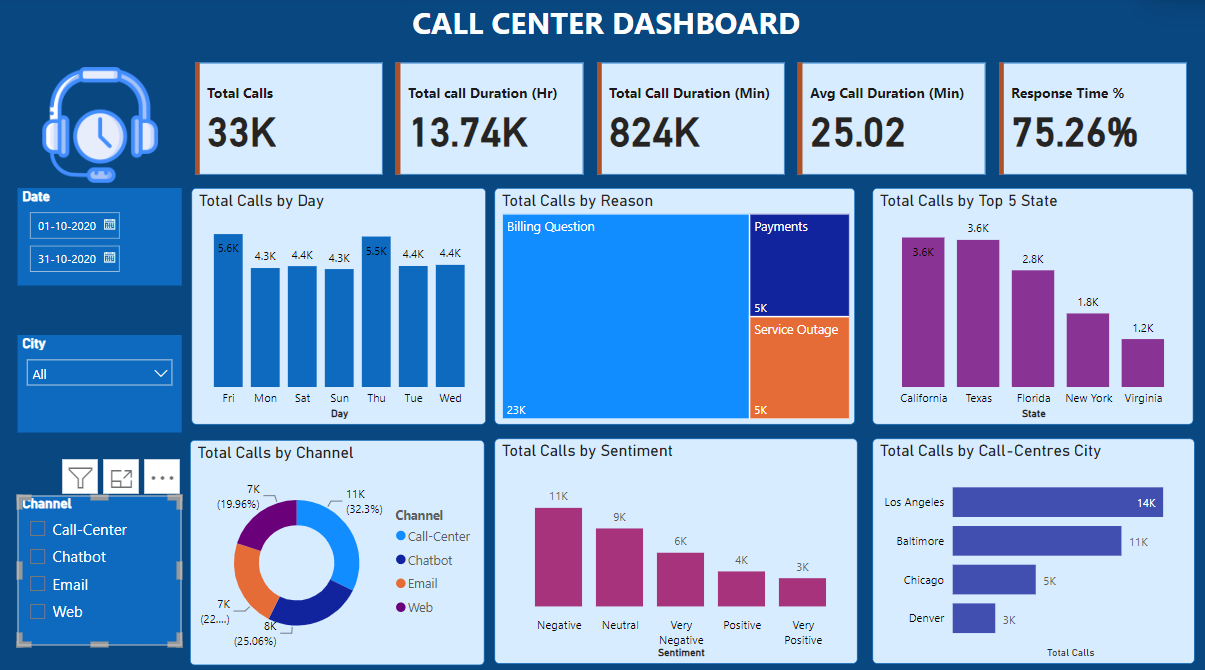

Layout of this report page (visuals, bound fields, positions):
{"tool":"powerbi","page":{"name":"DASHBOARD","canvas":[1280,720],"ordinal":0},"visuals":[{"type":"cardVisual","fields":{"Data":["Call Center_Call Center.Total calls","Call Center_Call Center.Total call Duration (Hr)","Call Center_Call Center.Total Call Duration (Min)","Call Center_Call Center.Avg Call Duration (Min)","Call Center_Call Center.Response Time %"]},"box":[203.3,65.7,1063.6,129.8],"z":0},{"type":"columnChart","fields":{"Category":["Date Table.Day"],"Y":["Call Center_Call Center.Total Calls"]},"box":[204.4,203.1,311.9,250.9],"z":1000},{"type":"columnChart","title":"Total Calls by Top 5 State","fields":{"Category":["Call Center_Call Center.State"],"Y":["Call Center_Call Center.Total Calls"]},"box":[891.8,202.5,373.9,251.2],"z":2000},{"type":"treemap","fields":{"Group":["Call Center_Call Center.Reason"],"Values":["Call Center_Call Center.Total Calls"]},"box":[525.6,203.1,353.1,250.9],"z":3000},{"type":"donutChart","fields":{"Category":["Call Center_Call Center.Channel"],"Y":["Call Center_Call Center.Total Calls"]},"box":[203.1,469.9,311.9,238.9],"z":4000},{"type":"columnChart","fields":{"Category":["Call Center_Call Center.Sentiment"],"Y":["Call Center_Call Center.Total Calls"]},"box":[525.6,468.6,384.9,238.9],"z":5000},{"type":"clusteredBarChart","fields":{"Category":["Call Center_Call Center.Call-Centres City"],"Y":["Call Center_Call Center.Total Calls"]},"box":[926.5,468.6,341.1,238.9],"z":6000},{"type":"slicer","title":"Date","fields":{"Values":["Date Table.Date"]},"box":[19.9,225.6,173.9,103.5],"z":7000},{"type":"slicer","title":"Channel","fields":{"Values":["Call Center_Call Center.Channel"]},"box":[19.9,549.5,173.9,158],"z":8000},{"type":"slicer","title":"City","fields":{"Values":["Call Center_Call Center.City"]},"box":[19.9,388.9,173.9,103.5],"z":9000},{"type":"image","box":[21.9,70.4,172.1,133],"z":10000},{"type":"textbox","box":[433.3,0,475.5,65.7],"z":11000}]}

Visuals, with their boxes in screenshot pixels (x1, y1, x2, y2), scaled from the page's 1280x720 canvas onto the 1205x670 screenshot:
cardVisual - Call Center_Call Center.Total calls x Call Center_Call Center.Total call Duration (Hr): 191:61:1193:182
columnChart - Date Table.Day x Call Center_Call Center.Total Calls: 192:189:486:422
"Total Calls by Top 5 State" columnChart: 840:188:1192:422
treemap - Call Center_Call Center.Reason x Call Center_Call Center.Total Calls: 495:189:827:422
donutChart - Call Center_Call Center.Channel x Call Center_Call Center.Total Calls: 191:437:485:660
columnChart - Call Center_Call Center.Sentiment x Call Center_Call Center.Total Calls: 495:436:857:658
clusteredBarChart - Call Center_Call Center.Call-Centres City x Call Center_Call Center.Total Calls: 872:436:1193:658
"Date" slicer: 19:210:182:306
"Channel" slicer: 19:511:182:658
"City" slicer: 19:362:182:458
image: 21:66:183:189
textbox: 408:0:856:61
